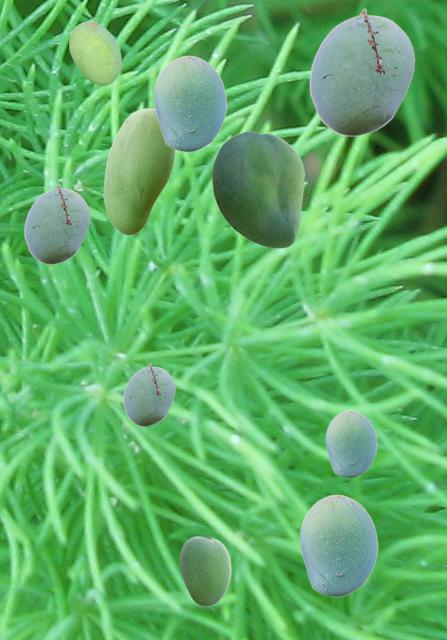green_mango: (309, 8, 414, 135), (212, 131, 303, 247), (103, 108, 174, 234), (299, 494, 377, 596), (153, 55, 226, 151), (24, 184, 89, 263), (179, 536, 230, 605), (325, 410, 376, 477), (69, 21, 120, 84), (123, 363, 174, 425)
